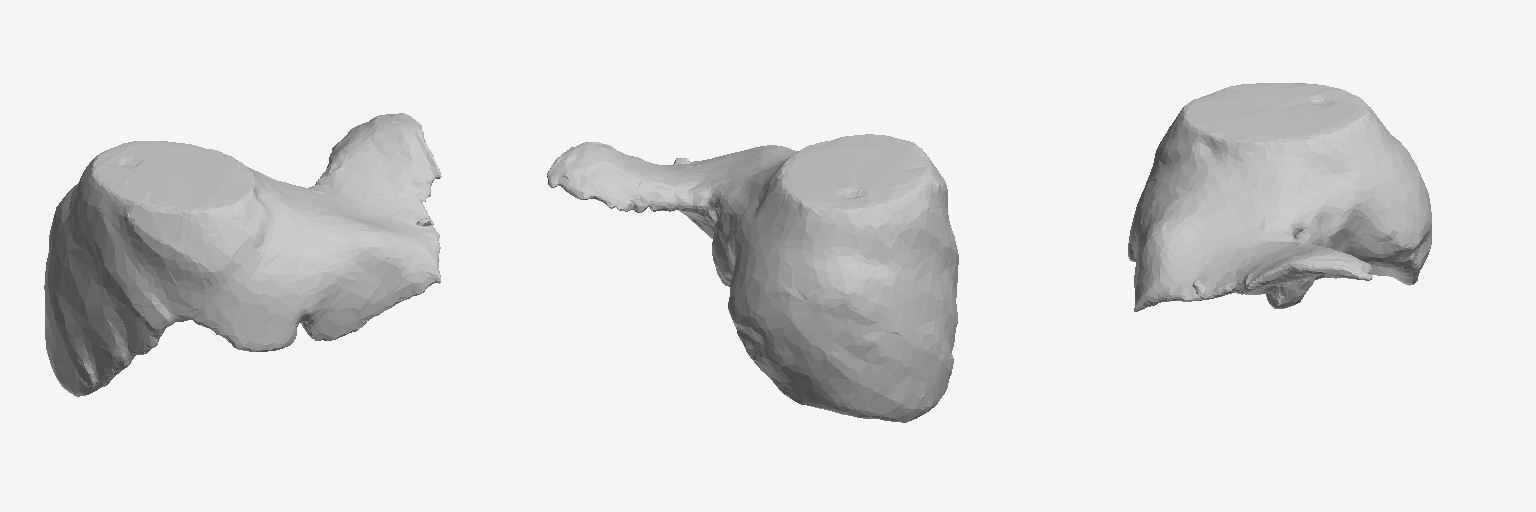
3 renders of one model, left to right at view 1: azimuth 30°, elevation 25°; view 2: azimuth 150°, elevation 25°; view 3: azimuth 270°, elevation 25°, orthographic.
Parts seen in each view (by area): view 1: Polygonal_Model_1_Triangles_0; view 2: Polygonal_Model_1_Triangles_0; view 3: Polygonal_Model_1_Triangles_0.
Part boxes in pixels (bbox=[...]): Polygonal_Model_1_Triangles_0: bbox=[44, 113, 441, 396]; Polygonal_Model_1_Triangles_0: bbox=[547, 134, 958, 422]; Polygonal_Model_1_Triangles_0: bbox=[1128, 83, 1431, 311].
Size of the model in its own units: 8.87 by 4.87 by 6.46.